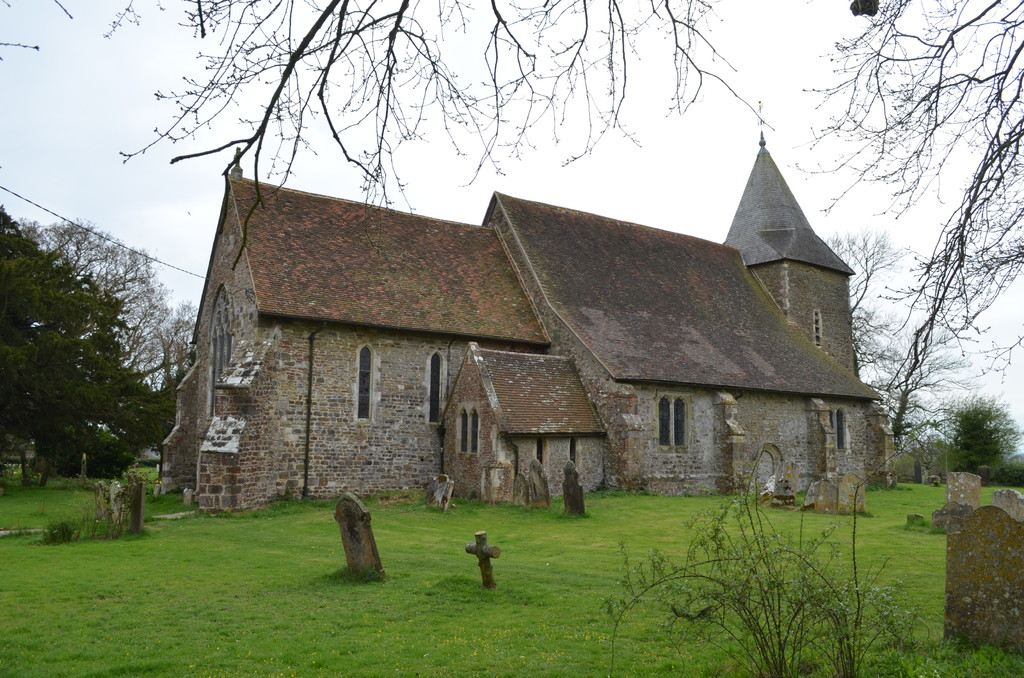Tree: (0, 0, 1023, 439), (13, 217, 201, 428), (3, 214, 144, 483), (936, 395, 1023, 498)
